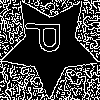P: (25, 20, 70, 54)
